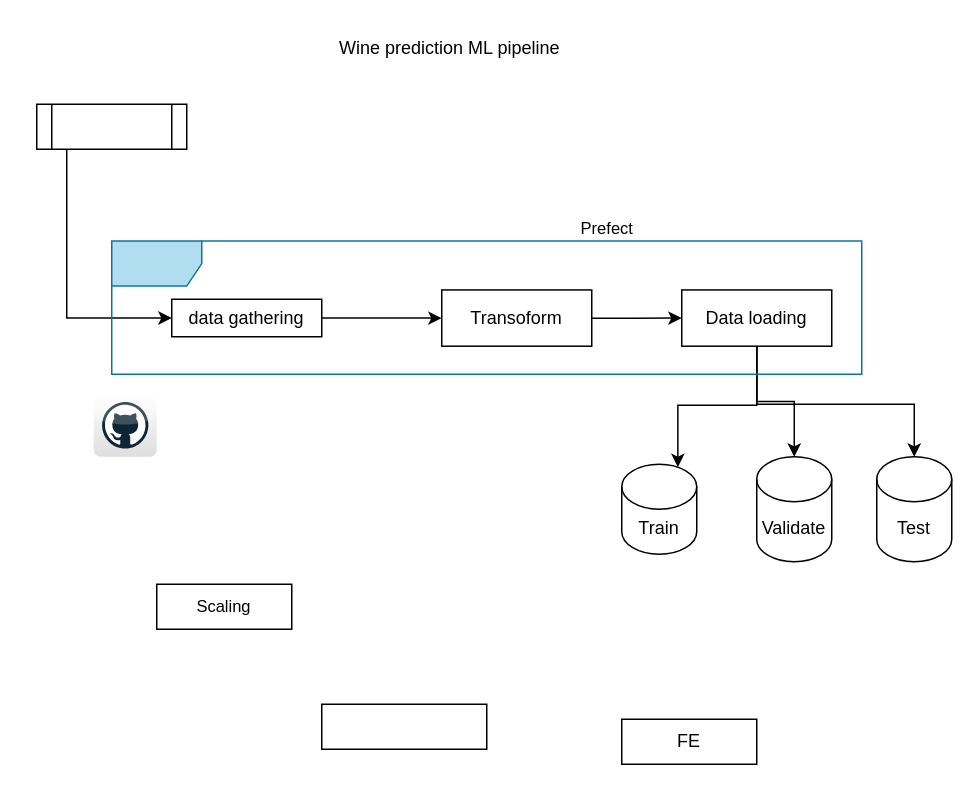
The diagram is 978 pixels wide and 791 high, and some of its shapes have lost their labels. Each missing label, with the box of its shape:
Data pipeline: (110, 240, 862, 374)
Onehot encoding: (320, 703, 487, 749)
Source url: (35, 103, 187, 149)
